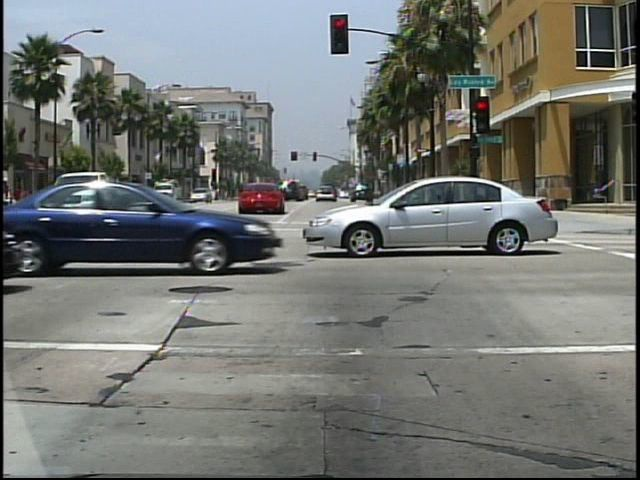person: (2, 172, 19, 228)
